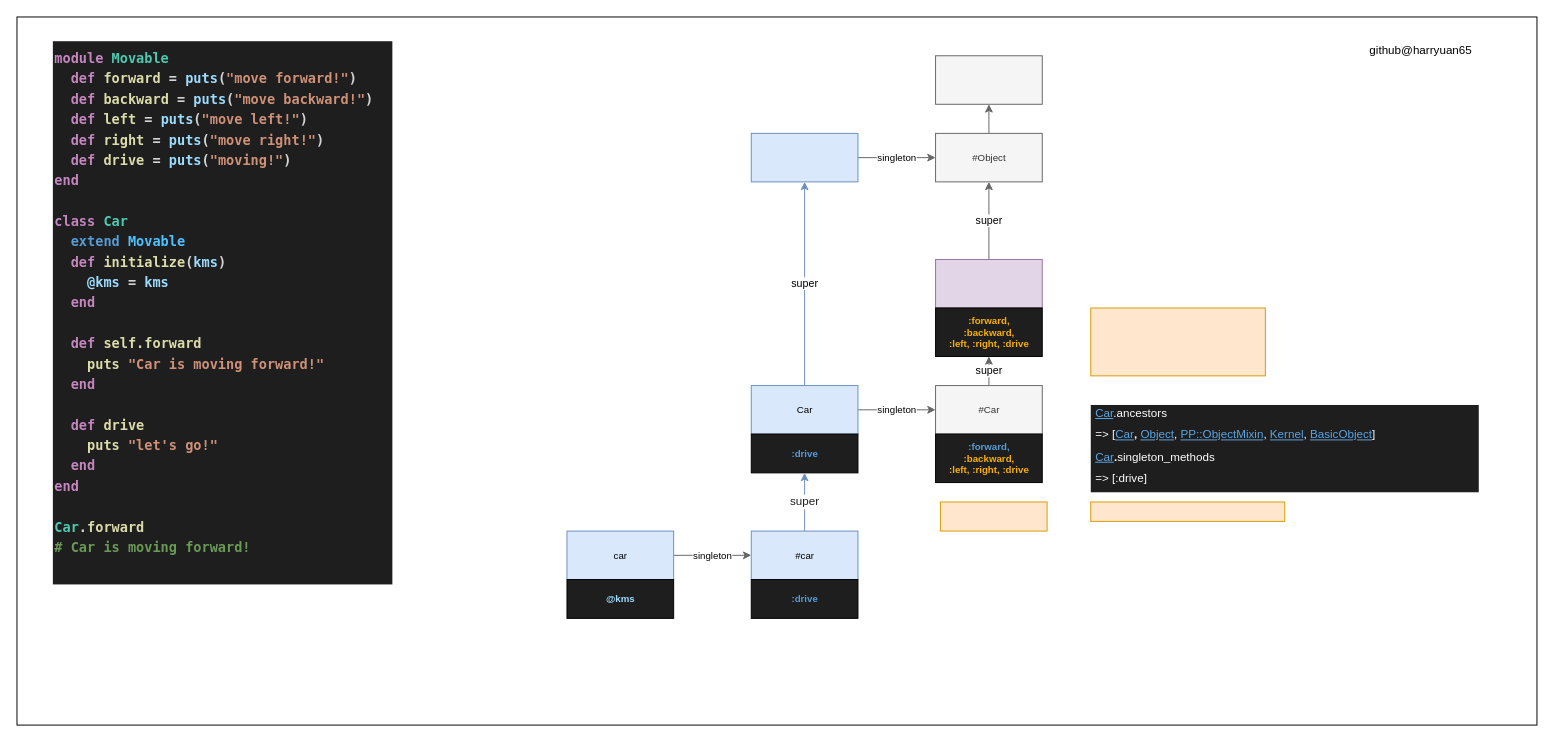
Some shapes in this 1554 by 742 pixel diagram are drawn without their labels. The shapes that lost their labels are listed below. From the top down, each one's centre as x and y in pixels, then its label:
point (988, 79): Class
point (804, 157): Object
point (988, 283): Movable
point (1177, 341): 類似由 Car 的 Singleton Class 去繼承 Movable
point (993, 516): 繼承 Movable 所以 不會複寫 forward。
point (1187, 511): 看不到 Singleton Class 的繼承鏈。
